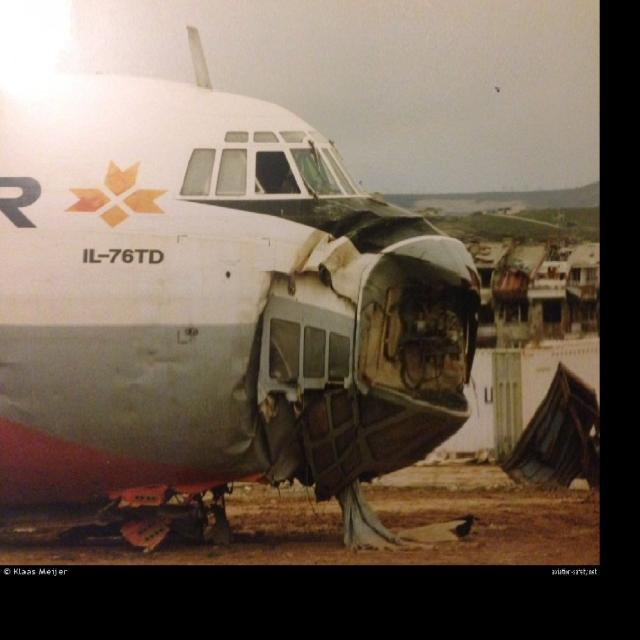dent: (223, 381, 256, 456)
